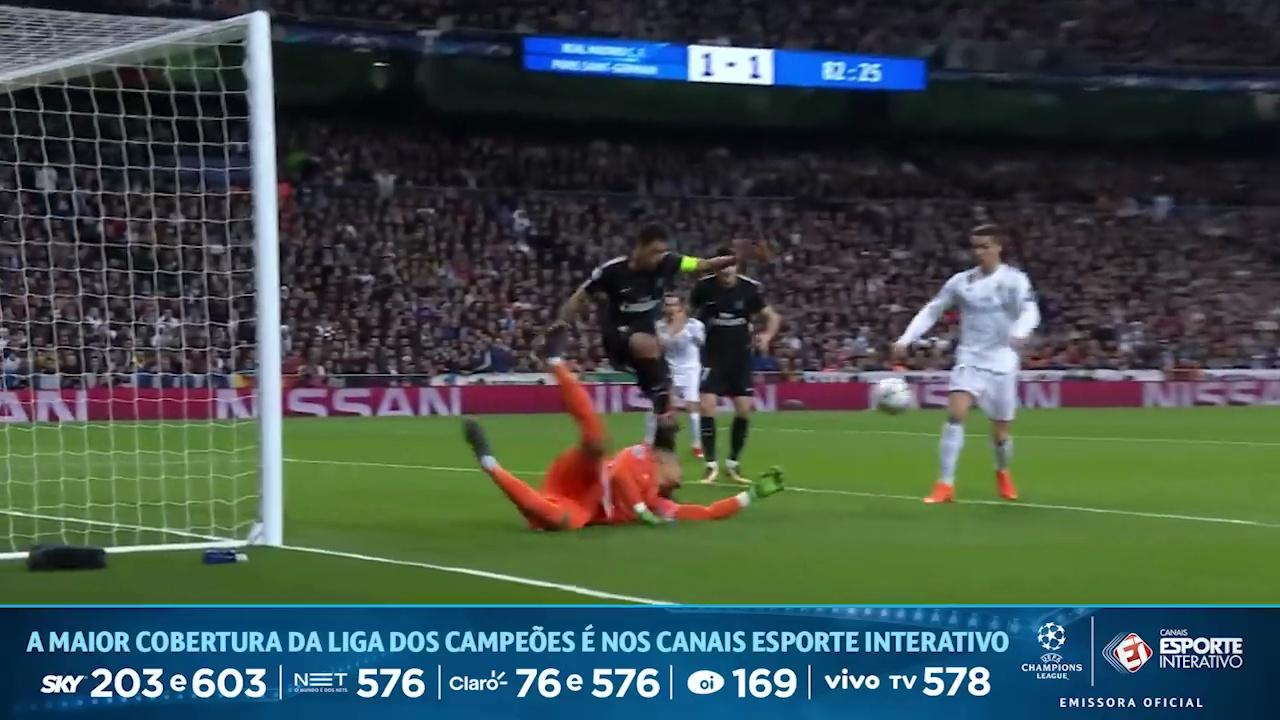football: (871, 377, 912, 413)
player: (464, 346, 782, 529), (892, 224, 1040, 502), (551, 223, 752, 418), (689, 263, 781, 482), (657, 295, 705, 457)
